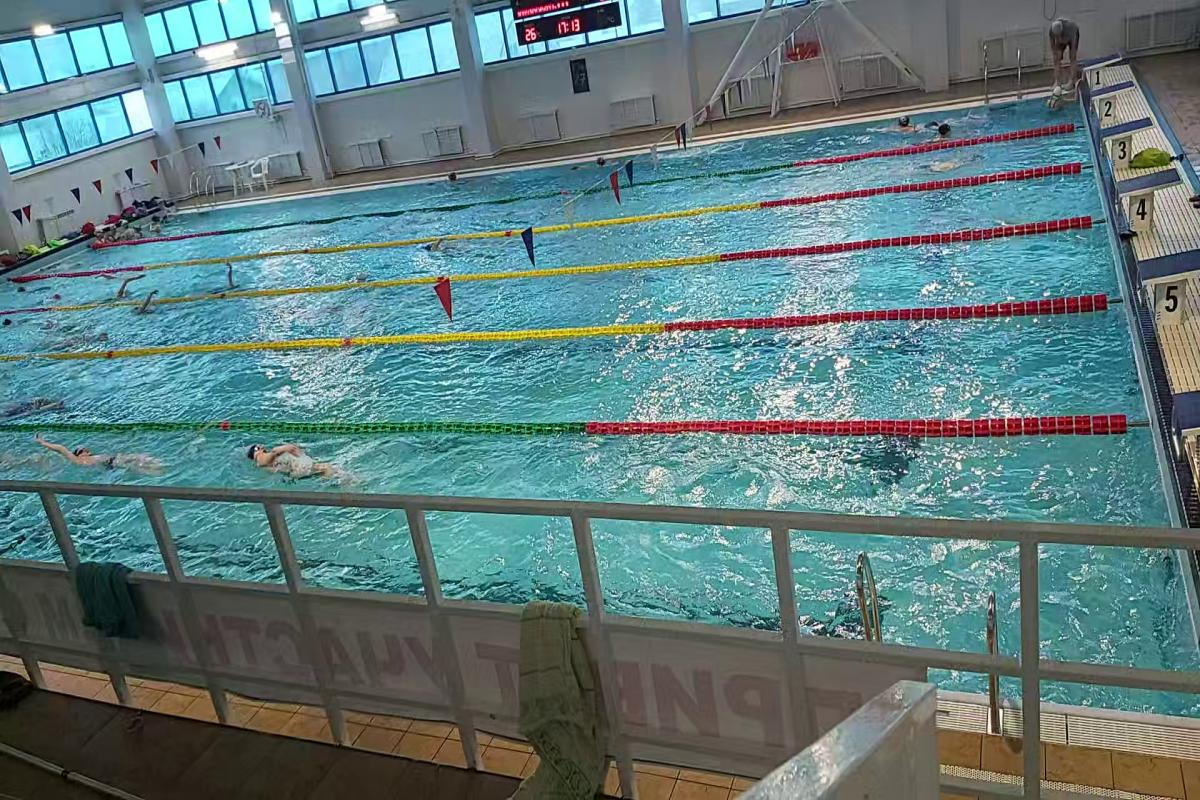swimmer: (239, 430, 366, 489), (22, 430, 178, 478), (416, 230, 492, 256), (103, 273, 148, 300), (217, 255, 248, 290), (136, 287, 166, 317)
